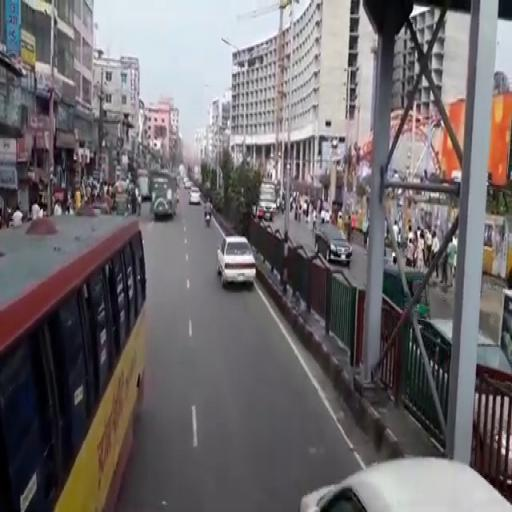bus: (1, 212, 151, 512), (151, 171, 178, 215), (253, 179, 278, 220)
car: (408, 317, 512, 483), (216, 234, 256, 283), (314, 223, 353, 264), (189, 186, 202, 203)
motorbike: (205, 205, 212, 228)
three wheelers (CNG): (382, 266, 433, 325)
